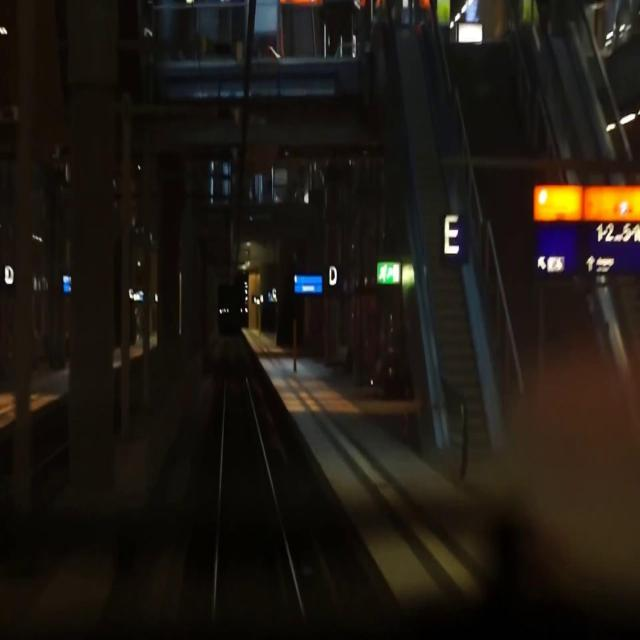rail-track: (215, 334, 306, 639)
